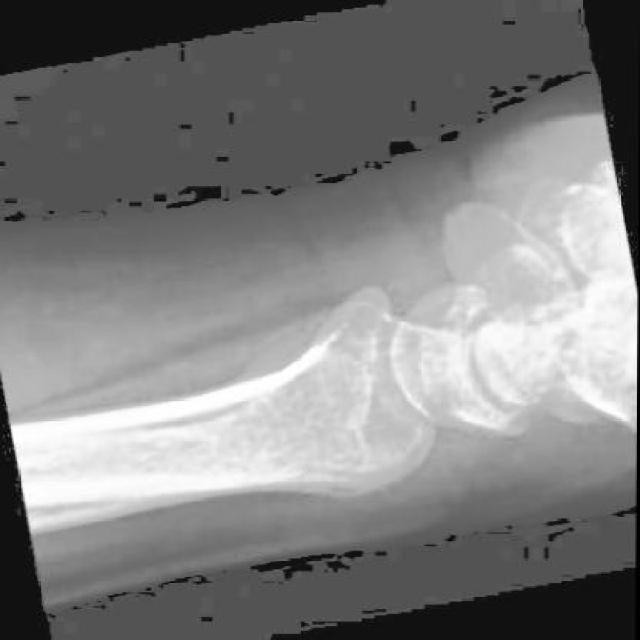Fracture: (525, 363, 618, 440)
